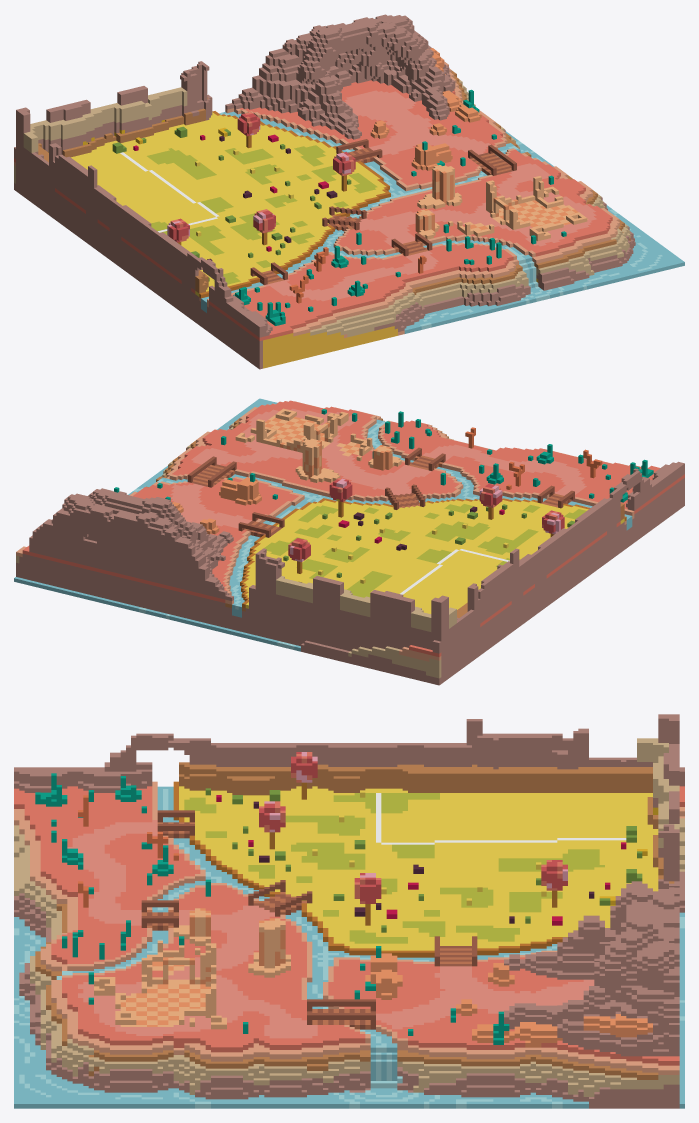
The model's file is mainland mk4.obj.
3 renders of one model, top to bottom at view 1: azimuth 30°, elevation 25°; view 2: azimuth 150°, elevation 25°; view 3: azimuth 270°, elevation 25°, orthographic. The views are drawn at different scales.
Bounding box in the file's own units: 126 × 28 × 126.
